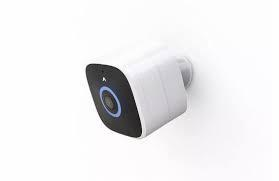tutu: (83, 41, 193, 141)
